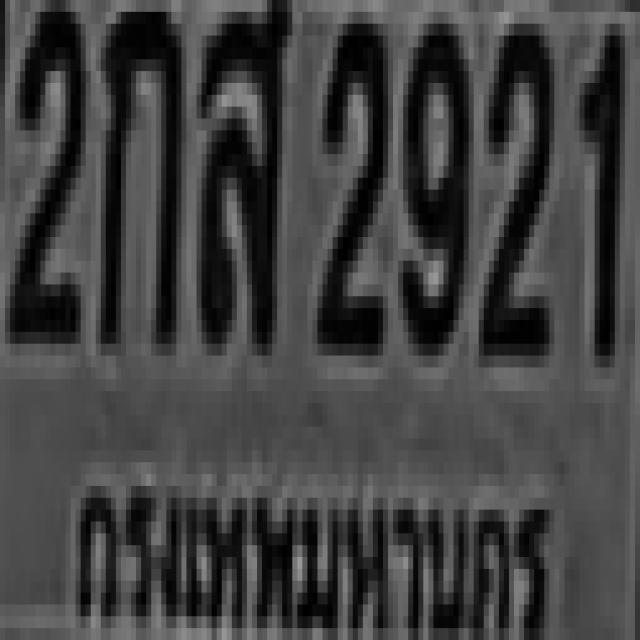1: (574, 12, 620, 355)
10GorGai: (96, 0, 176, 344)
2: (5, 0, 81, 332), (312, 0, 383, 344), (479, 12, 549, 344)
49SorSuea: (197, 0, 287, 344)
9: (398, 12, 464, 344)
Bangkok: (61, 450, 554, 640)
